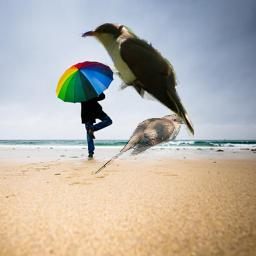Cuckoo: (79, 23, 194, 138), (95, 114, 189, 174)
